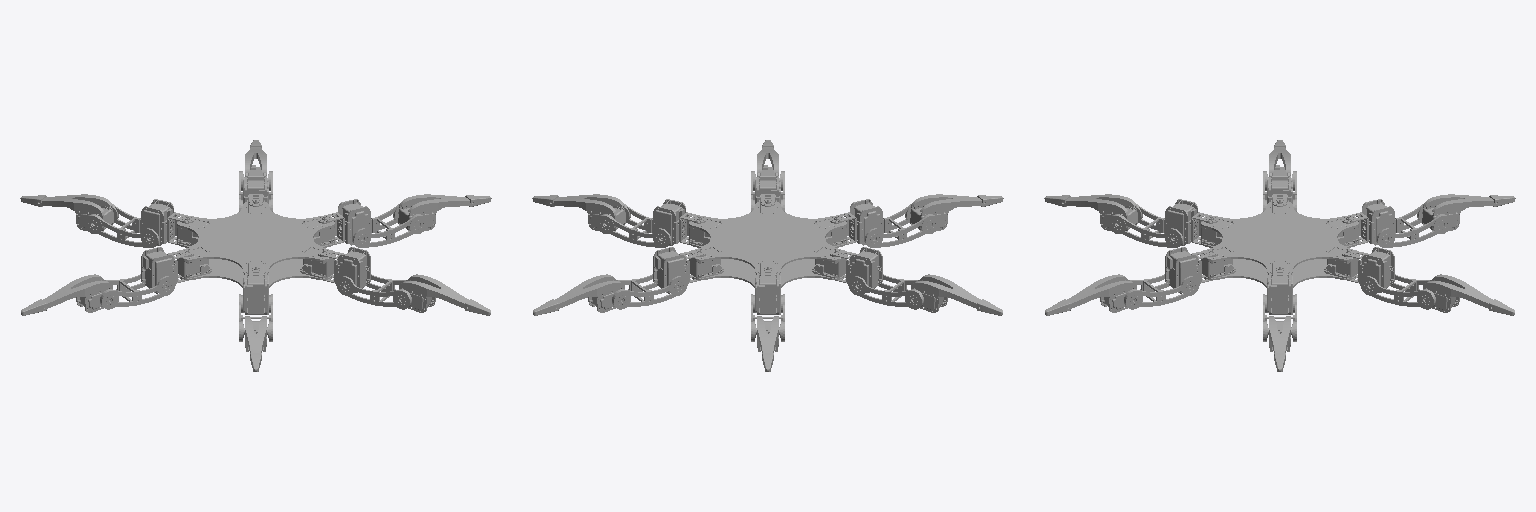
The robot description file, URDF, robot "hexapod_detailed":
<?xml version='1.0' encoding='utf-8'?>
<robot name="hexapod_detailed">

  <!-- COLOURS -->
  <material name="body">
    <color rgba="0.7 0.7 0.7 1" />
  </material>
  <material name="coxa">
    <color rgba="0.7 0.7 0.7 1" />
  </material>
  <material name="femur">
    <color rgba="0.7 0.7 0.7 1" />
  </material>
  <material name="tibia">
    <color rgba="0.7 0.7 0.7 1" />
  </material>

  <!-- BASE LINK -->
  <link name="base_link">
    <inertial>
      <origin rpy="0 0 0" xyz="0 0 -6.800E-4" />
      <mass value="1.320" />
      <inertia ixx="5.25450858E-3" ixy="0" ixz="-1.0E-11" iyy="5.25450858E-3" iyz="-1.3E-10" izz="1.014754381E-2" />
    </inertial>
    <visual>
      <origin rpy="0 0 0" xyz="0 0 0" />
      <geometry>
        <mesh filename="package://urdf/meshes/detailed/base_mesh.STL" />
      </geometry>
      <material name="body" />
    </visual>
    <collision>
      <origin rpy="0 0 0" xyz="0 0 0" />
      <geometry>
        <mesh filename="package://urdf/meshes/detailed/base_mesh.STL" />
      </geometry>
    </collision>
  </link>

  <link name="link_1_1">
    <inertial>
      <origin rpy="0 0 0" xyz="4.992E-2 -1.400E-4 1.457E-2" />
      <mass value="0.14645" />
      <inertia ixx="6.022825E-5" ixy="-6.480E-8" ixz="9.3057E-7" iyy="6.045029E-5" iyz="-3.6292E-7" izz="4.572503E-5" />
    </inertial>
    <visual>
      <origin rpy="0 0 0" xyz="0 0 0" />
      <geometry>
        <mesh filename="package://urdf/meshes/detailed/coxa_mesh.STL" />
      </geometry>
      <material name="coxa" />
    </visual>
    <collision>
      <origin rpy="0 0 0" xyz="0 0 0" />
      <geometry>
        <mesh filename="package://urdf/meshes/detailed/coxa_mesh.STL" />
      </geometry>
    </collision>
  </link>

  <joint name="joint_1_1" type="revolute">
    <origin rpy="0 0 0" xyz="0.12529 0 -0.014" />
    <parent link="base_link" />
    <child link="link_1_1" />
    <axis xyz="0 0 1" />
    <limit effort="3.464" lower="-1.745" upper="1.745" velocity="7.686" />
  </joint>

  <link name="link_1_2">
    <inertial>
      <origin rpy="0 0 0" xyz="5.478E-2 -3.960E-3 0" />
      <mass value="0.05752" />
      <inertia ixx="3.892883E-5" ixy="1.70637E-6" ixz="0" iyy="1.2476240E-4" iyz="0" izz="9.600355E-5" />
    </inertial>
    <visual>
      <origin rpy="0 0 0" xyz="0 0 0" />
      <geometry>
        <mesh filename="package://urdf/meshes/detailed/femur_mesh.STL" />
      </geometry>
      <material name="femur" />
    </visual>
    <collision>
      <origin rpy="0 0 0" xyz="0 0 0" />
      <geometry>
        <mesh filename="package://urdf/meshes/detailed/femur_mesh.STL" />
      </geometry>
    </collision>
  </link>

  <joint name="joint_1_2" type="revolute">
    <origin rpy="1.5707963267949 0 0" xyz="0.05317 0 0" />
    <parent link="link_1_1" />
    <child link="link_1_2" />
    <axis xyz="0 0 1" />
    <limit effort="5.194" lower="-2.618" upper="2.269" velocity="5.289" />
  </joint>

  <link name="link_1_3">
    <inertial>
      <origin rpy="0 0 0" xyz="3.309E-2 7.960E-3 -2.000E-05" />
      <mass value="0.15389" />
      <inertia ixx="3.190588E-5" ixy="1.070870E-5" ixz="-1.0337E-7" iyy="1.8900301E-4" iyz="4.968E-8" izz="1.9268424E-4" />
    </inertial>
    <visual>
      <origin rpy="0 0 0" xyz="0 0 0" />
      <geometry>
        <mesh filename="package://urdf/meshes/detailed/tibia_mesh.STL" />
      </geometry>
      <material name="tibia" />
    </visual>
    <collision>
      <origin rpy="0 0 0" xyz="0 0 0" />
      <geometry>
        <mesh filename="package://urdf/meshes/detailed/tibia_mesh.STL" />
      </geometry>
    </collision>
  </link>

  <joint name="joint_1_3" type="revolute">
    <origin rpy="0 0 0" xyz="0.10188 0 0" />
    <parent link="link_1_2" />
    <child link="link_1_3" />
    <axis xyz="0 0 1" />
    <limit effort="3.464" lower="-2.967" upper="2.269" velocity="7.686" />
  </joint>

  <link name="link_2_1">
    <inertial>
      <origin rpy="0 0 0" xyz="4.992E-2 -1.400E-4 1.457E-2" />
      <mass value="0.14645" />
      <inertia ixx="6.022825E-5" ixy="-6.480E-8" ixz="9.3057E-7" iyy="6.045029E-5" iyz="-3.6292E-7" izz="4.572503E-5" />
    </inertial>
    <visual>
      <origin rpy="0 0 0" xyz="0 0 0" />
      <geometry>
        <mesh filename="package://urdf/meshes/detailed/coxa_mesh.STL" />
      </geometry>
      <material name="coxa" />
    </visual>
    <collision>
      <origin rpy="0 0 0" xyz="0 0 0" />
      <geometry>
        <mesh filename="package://urdf/meshes/detailed/coxa_mesh.STL" />
      </geometry>
    </collision>
  </link>

  <joint name="joint_2_1" type="revolute">
    <origin rpy="0 0 1.047197551" xyz="0.062645 0.1085043228 -0.014" />
    <parent link="base_link" />
    <child link="link_2_1" />
    <axis xyz="0 0 1" />
    <limit effort="3.464" lower="-1.745" upper="1.745" velocity="7.686" />
  </joint>

  <link name="link_2_2">
    <inertial>
      <origin rpy="0 0 0" xyz="5.478E-2 -3.960E-3 0" />
      <mass value="0.05752" />
      <inertia ixx="3.892883E-5" ixy="1.70637E-6" ixz="0" iyy="1.2476240E-4" iyz="0" izz="9.600355E-5" />
    </inertial>
    <visual>
      <origin rpy="0 0 0" xyz="0 0 0" />
      <geometry>
        <mesh filename="package://urdf/meshes/detailed/femur_mesh.STL" />
      </geometry>
      <material name="femur" />
    </visual>
    <collision>
      <origin rpy="0 0 0" xyz="0 0 0" />
      <geometry>
        <mesh filename="package://urdf/meshes/detailed/femur_mesh.STL" />
      </geometry>
    </collision>
  </link>

  <joint name="joint_2_2" type="revolute">
    <origin rpy="1.5707963267949 0 0" xyz="0.05317 0 0" />
    <parent link="link_2_1" />
    <child link="link_2_2" />
    <axis xyz="0 0 1" />
    <limit effort="5.194" lower="-2.618" upper="2.269" velocity="5.289" />
  </joint>

  <link name="link_2_3">
    <inertial>
      <origin rpy="0 0 0" xyz="3.309E-2 7.960E-3 -2.000E-05" />
      <mass value="0.15389" />
      <inertia ixx="3.190588E-5" ixy="1.070870E-5" ixz="-1.0337E-7" iyy="1.8900301E-4" iyz="4.968E-8" izz="1.9268424E-4" />
    </inertial>
    <visual>
      <origin rpy="0 0 0" xyz="0 0 0" />
      <geometry>
        <mesh filename="package://urdf/meshes/detailed/tibia_mesh.STL" />
      </geometry>
      <material name="tibia" />
    </visual>
    <collision>
      <origin rpy="0 0 0" xyz="0 0 0" />
      <geometry>
        <mesh filename="package://urdf/meshes/detailed/tibia_mesh.STL" />
      </geometry>
    </collision>
  </link>

  <joint name="joint_2_3" type="revolute">
    <origin rpy="0 0 0" xyz="0.10188 0 0" />
    <parent link="link_2_2" />
    <child link="link_2_3" />
    <axis xyz="0 0 1" />
    <limit effort="3.464" lower="-2.967" upper="2.269" velocity="7.686" />
  </joint>

  <link name="link_3_1">
    <inertial>
      <origin rpy="0 0 0" xyz="4.992E-2 -1.400E-4 1.457E-2" />
      <mass value="0.14645" />
      <inertia ixx="6.022825E-5" ixy="-6.480E-8" ixz="9.3057E-7" iyy="6.045029E-5" iyz="-3.6292E-7" izz="4.572503E-5" />
    </inertial>
    <visual>
      <origin rpy="0 0 0" xyz="0 0 0" />
      <geometry>
        <mesh filename="package://urdf/meshes/detailed/coxa_mesh.STL" />
      </geometry>
      <material name="coxa" />
    </visual>
    <collision>
      <origin rpy="0 0 0" xyz="0 0 0" />
      <geometry>
        <mesh filename="package://urdf/meshes/detailed/coxa_mesh.STL" />
      </geometry>
    </collision>
  </link>

  <joint name="joint_3_1" type="revolute">
    <origin rpy="0 0 2.094395102" xyz="-0.062645 0.1085043228 -0.014" />
    <parent link="base_link" />
    <child link="link_3_1" />
    <axis xyz="0 0 1" />
    <limit effort="3.464" lower="-1.745" upper="1.745" velocity="7.686" />
  </joint>

  <link name="link_3_2">
    <inertial>
      <origin rpy="0 0 0" xyz="5.478E-2 -3.960E-3 0" />
      <mass value="0.05752" />
      <inertia ixx="3.892883E-5" ixy="1.70637E-6" ixz="0" iyy="1.2476240E-4" iyz="0" izz="9.600355E-5" />
    </inertial>
    <visual>
      <origin rpy="0 0 0" xyz="0 0 0" />
      <geometry>
        <mesh filename="package://urdf/meshes/detailed/femur_mesh.STL" />
      </geometry>
      <material name="femur" />
    </visual>
    <collision>
      <origin rpy="0 0 0" xyz="0 0 0" />
      <geometry>
        <mesh filename="package://urdf/meshes/detailed/femur_mesh.STL" />
      </geometry>
    </collision>
  </link>

  <joint name="joint_3_2" type="revolute">
    <origin rpy="1.5707963267949 0 0" xyz="0.05317 0 0" />
    <parent link="link_3_1" />
    <child link="link_3_2" />
    <axis xyz="0 0 1" />
    <limit effort="5.194" lower="-2.618" upper="2.269" velocity="5.289" />
  </joint>

  <link name="link_3_3">
    <inertial>
      <origin rpy="0 0 0" xyz="3.309E-2 7.960E-3 -2.000E-05" />
      <mass value="0.15389" />
      <inertia ixx="3.190588E-5" ixy="1.070870E-5" ixz="-1.0337E-7" iyy="1.8900301E-4" iyz="4.968E-8" izz="1.9268424E-4" />
    </inertial>
    <visual>
      <origin rpy="0 0 0" xyz="0 0 0" />
      <geometry>
        <mesh filename="package://urdf/meshes/detailed/tibia_mesh.STL" />
      </geometry>
      <material name="tibia" />
    </visual>
    <collision>
      <origin rpy="0 0 0" xyz="0 0 0" />
      <geometry>
        <mesh filename="package://urdf/meshes/detailed/tibia_mesh.STL" />
      </geometry>
    </collision>
  </link>

  <joint name="joint_3_3" type="revolute">
    <origin rpy="0 0 0" xyz="0.10188 0 0" />
    <parent link="link_3_2" />
    <child link="link_3_3" />
    <axis xyz="0 0 1" />
    <limit effort="3.464" lower="-2.967" upper="2.269" velocity="7.686" />
  </joint>

  <link name="link_4_1">
    <inertial>
      <origin rpy="0 0 0" xyz="4.992E-2 -1.400E-4 1.457E-2" />
      <mass value="0.14645" />
      <inertia ixx="6.022825E-5" ixy="-6.480E-8" ixz="9.3057E-7" iyy="6.045029E-5" iyz="-3.6292E-7" izz="4.572503E-5" />
    </inertial>
    <visual>
      <origin rpy="0 0 0" xyz="0 0 0" />
      <geometry>
        <mesh filename="package://urdf/meshes/detailed/coxa_mesh.STL" />
      </geometry>
      <material name="coxa" />
    </visual>
    <collision>
      <origin rpy="0 0 0" xyz="0 0 0" />
      <geometry>
        <mesh filename="package://urdf/meshes/detailed/coxa_mesh.STL" />
      </geometry>
    </collision>
  </link>

  <joint name="joint_4_1" type="revolute">
    <origin rpy="0 0 3.141592654" xyz="-0.12529 0 -0.014" />
    <parent link="base_link" />
    <child link="link_4_1" />
    <axis xyz="0 0 1" />
    <limit effort="3.464" lower="-1.745" upper="1.745" velocity="7.686" />
  </joint>

  <link name="link_4_2">
    <inertial>
      <origin rpy="0 0 0" xyz="5.478E-2 -3.960E-3 0" />
      <mass value="0.05752" />
      <inertia ixx="3.892883E-5" ixy="1.70637E-6" ixz="0" iyy="1.2476240E-4" iyz="0" izz="9.600355E-5" />
    </inertial>
    <visual>
      <origin rpy="0 0 0" xyz="0 0 0" />
      <geometry>
        <mesh filename="package://urdf/meshes/detailed/femur_mesh.STL" />
      </geometry>
      <material name="femur" />
    </visual>
    <collision>
      <origin rpy="0 0 0" xyz="0 0 0" />
      <geometry>
        <mesh filename="package://urdf/meshes/detailed/femur_mesh.STL" />
      </geometry>
    </collision>
  </link>

  <joint name="joint_4_2" type="revolute">
    <origin rpy="1.5707963267949 0 0" xyz="0.05317 0 0" />
    <parent link="link_4_1" />
    <child link="link_4_2" />
    <axis xyz="0 0 1" />
    <limit effort="5.194" lower="-2.618" upper="2.269" velocity="5.289" />
  </joint>

  <link name="link_4_3">
    <inertial>
      <origin rpy="0 0 0" xyz="3.309E-2 7.960E-3 -2.000E-05" />
      <mass value="0.15389" />
      <inertia ixx="3.190588E-5" ixy="1.070870E-5" ixz="-1.0337E-7" iyy="1.8900301E-4" iyz="4.968E-8" izz="1.9268424E-4" />
    </inertial>
    <visual>
      <origin rpy="0 0 0" xyz="0 0 0" />
      <geometry>
        <mesh filename="package://urdf/meshes/detailed/tibia_mesh.STL" />
      </geometry>
      <material name="tibia" />
    </visual>
    <collision>
      <origin rpy="0 0 0" xyz="0 0 0" />
      <geometry>
        <mesh filename="package://urdf/meshes/detailed/tibia_mesh.STL" />
      </geometry>
    </collision>
  </link>

  <joint name="joint_4_3" type="revolute">
    <origin rpy="0 0 0" xyz="0.10188 0 0" />
    <parent link="link_4_2" />
    <child link="link_4_3" />
    <axis xyz="0 0 1" />
    <limit effort="3.464" lower="-2.967" upper="2.269" velocity="7.686" />
  </joint>

  <link name="link_5_1">
    <inertial>
      <origin rpy="0 0 0" xyz="4.992E-2 -1.400E-4 1.457E-2" />
      <mass value="0.14645" />
      <inertia ixx="6.022825E-5" ixy="-6.480E-8" ixz="9.3057E-7" iyy="6.045029E-5" iyz="-3.6292E-7" izz="4.572503E-5" />
    </inertial>
    <visual>
      <origin rpy="0 0 0" xyz="0 0 0" />
      <geometry>
        <mesh filename="package://urdf/meshes/detailed/coxa_mesh.STL" />
      </geometry>
      <material name="coxa" />
    </visual>
    <collision>
      <origin rpy="0 0 0" xyz="0 0 0" />
      <geometry>
        <mesh filename="package://urdf/meshes/detailed/coxa_mesh.STL" />
      </geometry>
    </collision>
  </link>

  <joint name="joint_5_1" type="revolute">
    <origin rpy="0 0 -2.094395102" xyz="-0.062645 -0.1085043228 -0.014" />
    <parent link="base_link" />
    <child link="link_5_1" />
    <axis xyz="0 0 1" />
    <limit effort="3.464" lower="-1.745" upper="1.745" velocity="7.686" />
  </joint>

  <link name="link_5_2">
    <inertial>
      <origin rpy="0 0 0" xyz="5.478E-2 -3.960E-3 0" />
      <mass value="0.05752" />
      <inertia ixx="3.892883E-5" ixy="1.70637E-6" ixz="0" iyy="1.2476240E-4" iyz="0" izz="9.600355E-5" />
    </inertial>
    <visual>
      <origin rpy="0 0 0" xyz="0 0 0" />
      <geometry>
        <mesh filename="package://urdf/meshes/detailed/femur_mesh.STL" />
      </geometry>
      <material name="femur" />
    </visual>
    <collision>
      <origin rpy="0 0 0" xyz="0 0 0" />
      <geometry>
        <mesh filename="package://urdf/meshes/detailed/femur_mesh.STL" />
      </geometry>
    </collision>
  </link>

  <joint name="joint_5_2" type="revolute">
    <origin rpy="1.5707963267949 0 0" xyz="0.05317 0 0" />
    <parent link="link_5_1" />
    <child link="link_5_2" />
    <axis xyz="0 0 1" />
    <limit effort="5.194" lower="-2.618" upper="2.269" velocity="5.289" />
  </joint>

  <link name="link_5_3">
    <inertial>
      <origin rpy="0 0 0" xyz="3.309E-2 7.960E-3 -2.000E-05" />
      <mass value="0.15389" />
      <inertia ixx="3.190588E-5" ixy="1.070870E-5" ixz="-1.0337E-7" iyy="1.8900301E-4" iyz="4.968E-8" izz="1.9268424E-4" />
    </inertial>
    <visual>
      <origin rpy="0 0 0" xyz="0 0 0" />
      <geometry>
        <mesh filename="package://urdf/meshes/detailed/tibia_mesh.STL" />
      </geometry>
      <material name="tibia" />
    </visual>
    <collision>
      <origin rpy="0 0 0" xyz="0 0 0" />
      <geometry>
        <mesh filename="package://urdf/meshes/detailed/tibia_mesh.STL" />
      </geometry>
    </collision>
  </link>

  <joint name="joint_5_3" type="revolute">
    <origin rpy="0 0 0" xyz="0.10188 0 0" />
    <parent link="link_5_2" />
    <child link="link_5_3" />
    <axis xyz="0 0 1" />
    <limit effort="3.464" lower="-2.967" upper="2.269" velocity="7.686" />
  </joint>

  <link name="link_6_1">
    <inertial>
      <origin rpy="0 0 0" xyz="4.992E-2 -1.400E-4 1.457E-2" />
      <mass value="0.14645" />
      <inertia ixx="6.022825E-5" ixy="-6.480E-8" ixz="9.3057E-7" iyy="6.045029E-5" iyz="-3.6292E-7" izz="4.572503E-5" />
    </inertial>
    <visual>
      <origin rpy="0 0 0" xyz="0 0 0" />
      <geometry>
        <mesh filename="package://urdf/meshes/detailed/coxa_mesh.STL" />
      </geometry>
      <material name="coxa" />
    </visual>
    <collision>
      <origin rpy="0 0 0" xyz="0 0 0" />
      <geometry>
        <mesh filename="package://urdf/meshes/detailed/coxa_mesh.STL" />
      </geometry>
    </collision>
  </link>

  <joint name="joint_6_1" type="revolute">
    <origin rpy="0 0 -1.047197551" xyz="0.062645 -0.1085043228 -0.014" />
    <parent link="base_link" />
    <child link="link_6_1" />
    <axis xyz="0 0 1" />
    <limit effort="3.464" lower="-1.745" upper="1.745" velocity="7.686" />
  </joint>

  <link name="link_6_2">
    <inertial>
      <origin rpy="0 0 0" xyz="5.478E-2 -3.960E-3 0" />
      <mass value="0.05752" />
      <inertia ixx="3.892883E-5" ixy="1.70637E-6" ixz="0" iyy="1.2476240E-4" iyz="0" izz="9.600355E-5" />
    </inertial>
    <visual>
      <origin rpy="0 0 0" xyz="0 0 0" />
      <geometry>
        <mesh filename="package://urdf/meshes/detailed/femur_mesh.STL" />
      </geometry>
      <material name="femur" />
    </visual>
    <collision>
      <origin rpy="0 0 0" xyz="0 0 0" />
      <geometry>
        <mesh filename="package://urdf/meshes/detailed/femur_mesh.STL" />
      </geometry>
    </collision>
  </link>

  <joint name="joint_6_2" type="revolute">
    <origin rpy="1.5707963267949 0 0" xyz="0.05317 0 0" />
    <parent link="link_6_1" />
    <child link="link_6_2" />
    <axis xyz="0 0 1" />
    <limit effort="5.194" lower="-2.618" upper="2.269" velocity="5.289" />
  </joint>

  <link name="link_6_3">
    <inertial>
      <origin rpy="0 0 0" xyz="3.309E-2 7.960E-3 -2.000E-05" />
      <mass value="0.15389" />
      <inertia ixx="3.190588E-5" ixy="1.070870E-5" ixz="-1.0337E-7" iyy="1.8900301E-4" iyz="4.968E-8" izz="1.9268424E-4" />
    </inertial>
    <visual>
      <origin rpy="0 0 0" xyz="0 0 0" />
      <geometry>
        <mesh filename="package://urdf/meshes/detailed/tibia_mesh.STL" />
      </geometry>
      <material name="tibia" />
    </visual>
    <collision>
      <origin rpy="0 0 0" xyz="0 0 0" />
      <geometry>
        <mesh filename="package://urdf/meshes/detailed/tibia_mesh.STL" />
      </geometry>
    </collision>
  </link>

  <joint name="joint_6_3" type="revolute">
    <origin rpy="0 0 0" xyz="0.10188 0 0" />
    <parent link="link_6_2" />
    <child link="link_6_3" />
    <axis xyz="0 0 1" />
    <limit effort="3.464" lower="-2.967" upper="2.269" velocity="7.686" />
  </joint>

</robot>

--- Facts derived from the render (not from the file) ---
The picture shows the robot from 3 angles, left to right: view 1: azimuth 30°, elevation 25°; view 2: azimuth 150°, elevation 25°; view 3: azimuth 270°, elevation 25°; orthographic projection.
Robot: hexapod_detailed — 19 links, 18 joints (18 revolute); root link base_link; default pose: every joint at zero.
Visible links, largest first — view 1: base_link, link_6_3, link_4_3, link_1_3, link_3_3, link_3_2, link_1_2, link_4_2, link_6_2, link_4_1, link_3_1, link_1_1 (+5 smaller); view 2: base_link, link_4_3, link_2_3, link_5_3, link_1_3, link_1_2, link_5_2, link_2_2, link_4_2, link_2_1, link_1_1, link_5_1 (+5 smaller); view 3: base_link, link_2_3, link_6_3, link_3_3, link_5_3, link_5_2, link_3_2, link_6_2, link_2_2, link_6_1, link_5_1, link_3_1 (+5 smaller).
Link boxes in pixels (x1,y1,x2,y2): base_link: [177, 199, 334, 287]; link_6_3: [399, 274, 490, 315]; link_4_3: [21, 274, 112, 315]; link_1_3: [398, 194, 491, 230]; link_3_3: [20, 194, 113, 230]; link_3_2: [84, 204, 158, 247]; link_1_2: [353, 204, 427, 247]; link_4_2: [100, 268, 174, 309]; link_6_2: [337, 268, 411, 309]; link_4_1: [141, 247, 191, 293]; link_3_1: [141, 199, 191, 245]; link_1_1: [320, 199, 370, 245]; base_link: [689, 199, 846, 287]; link_4_3: [911, 274, 1002, 315]; link_2_3: [533, 274, 624, 315]; link_5_3: [910, 194, 1003, 230]; link_1_3: [532, 194, 625, 230]; link_1_2: [596, 204, 670, 247]; link_5_2: [865, 204, 939, 247]; link_2_2: [612, 268, 686, 309]; link_4_2: [849, 268, 923, 309]; link_2_1: [653, 247, 703, 293]; link_1_1: [653, 199, 703, 245]; link_5_1: [832, 199, 882, 245]; base_link: [1201, 199, 1358, 287]; link_2_3: [1423, 274, 1514, 315]; link_6_3: [1045, 274, 1136, 315]; link_3_3: [1422, 194, 1515, 230]; link_5_3: [1044, 194, 1137, 230]; link_5_2: [1108, 204, 1182, 247]; link_3_2: [1377, 204, 1451, 247]; link_6_2: [1124, 268, 1198, 309]; link_2_2: [1361, 268, 1435, 309]; link_6_1: [1165, 247, 1215, 293]; link_5_1: [1165, 199, 1215, 245]; link_3_1: [1344, 199, 1394, 245].
Bounding box of the posed robot: 0.8554 × 0.7422 × 0.0691 m (x, y, z).
19 mesh visuals loaded from 4 distinct referenced files (4 binary STL).